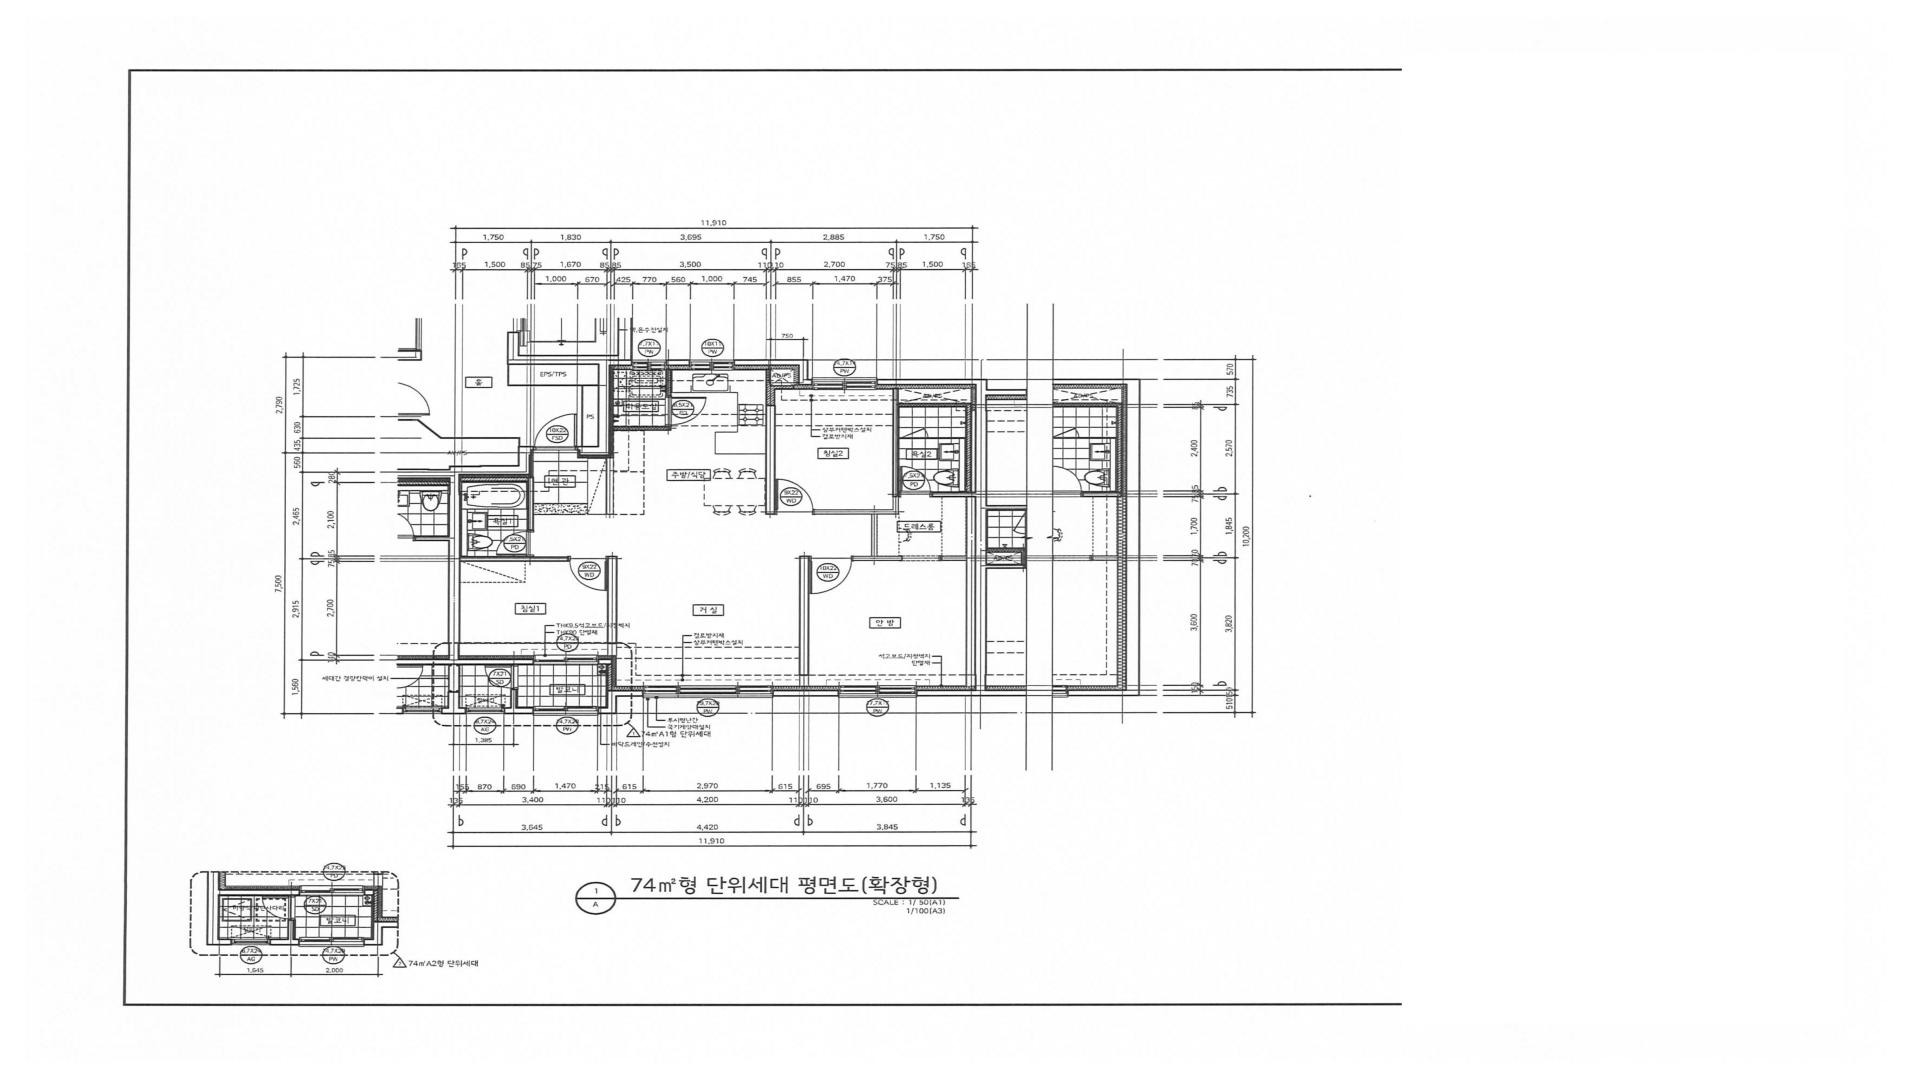door: (810, 555, 853, 595), (533, 414, 578, 450), (567, 555, 608, 591), (775, 479, 815, 514), (665, 396, 707, 426), (899, 465, 934, 497), (496, 530, 534, 556), (484, 665, 518, 690), (899, 427, 928, 439), (901, 555, 943, 562)
wall: (975, 385, 988, 690), (448, 465, 460, 659), (965, 497, 975, 686), (799, 555, 810, 686), (765, 406, 775, 514), (597, 355, 609, 446), (607, 556, 617, 655), (506, 355, 597, 365), (877, 378, 988, 385), (460, 465, 529, 475), (617, 318, 633, 355), (893, 389, 898, 497), (460, 556, 567, 562), (965, 407, 972, 492), (418, 419, 442, 439), (916, 690, 986, 696), (448, 659, 534, 665), (605, 458, 613, 514), (815, 509, 898, 514), (773, 690, 839, 696), (526, 477, 534, 530), (733, 360, 808, 365), (898, 402, 972, 407), (460, 477, 526, 483), (448, 665, 460, 692), (599, 696, 617, 713), (613, 426, 671, 431), (578, 446, 609, 455), (518, 446, 533, 465), (508, 332, 520, 355), (799, 365, 812, 385), (605, 690, 644, 696), (853, 555, 901, 560), (504, 707, 534, 715), (609, 355, 632, 365), (765, 385, 775, 406), (932, 492, 975, 497), (972, 410, 975, 492), (872, 514, 877, 555), (447, 692, 460, 708), (666, 369, 673, 396), (605, 665, 612, 691), (612, 686, 644, 691), (510, 690, 518, 708), (447, 708, 467, 715), (666, 360, 690, 365), (943, 555, 967, 560), (509, 385, 597, 386), (440, 438, 521, 439), (774, 385, 794, 390), (765, 369, 770, 385), (582, 386, 583, 446), (893, 496, 898, 509), (599, 659, 612, 665), (928, 438, 965, 439), (508, 365, 509, 386), (398, 419, 418, 421), (518, 439, 520, 446)
window: (644, 686, 773, 698), (839, 686, 916, 698), (812, 377, 877, 390), (534, 705, 599, 716), (534, 654, 599, 665), (690, 360, 735, 371), (632, 360, 666, 371), (467, 708, 504, 713)
